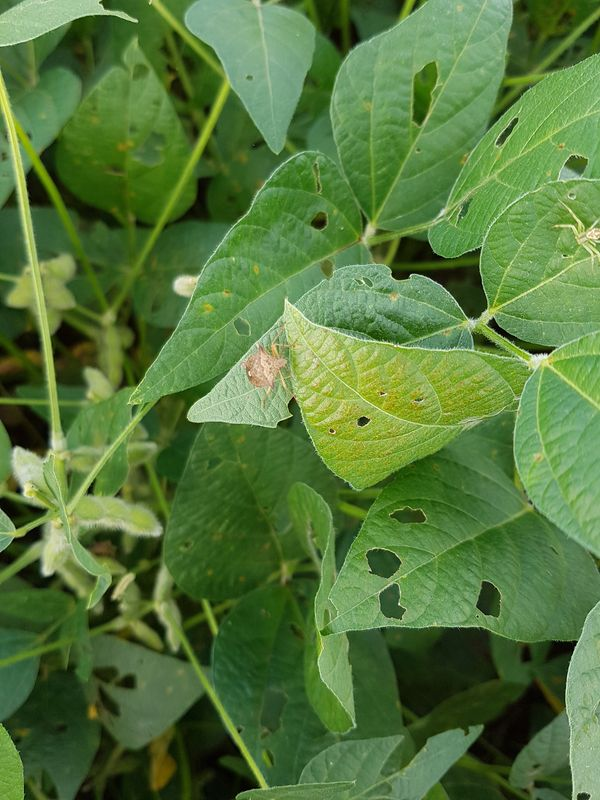Euschistus_heros_adulto: (233, 322, 306, 405)
